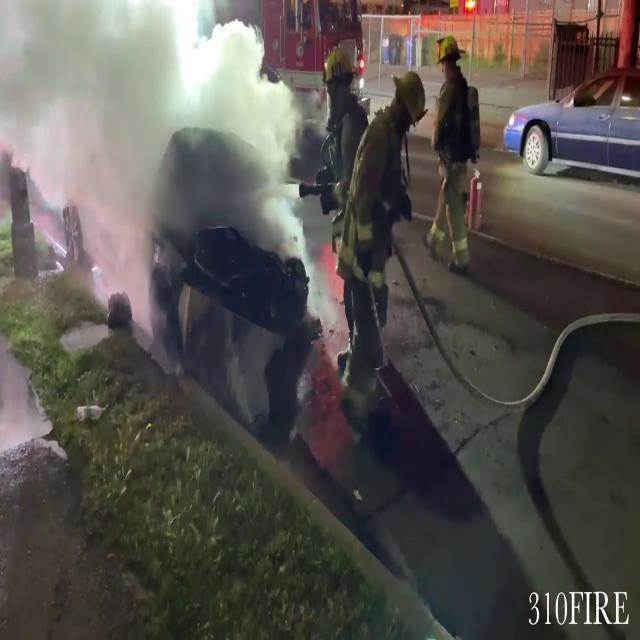Smoke: (0, 0, 307, 277)
